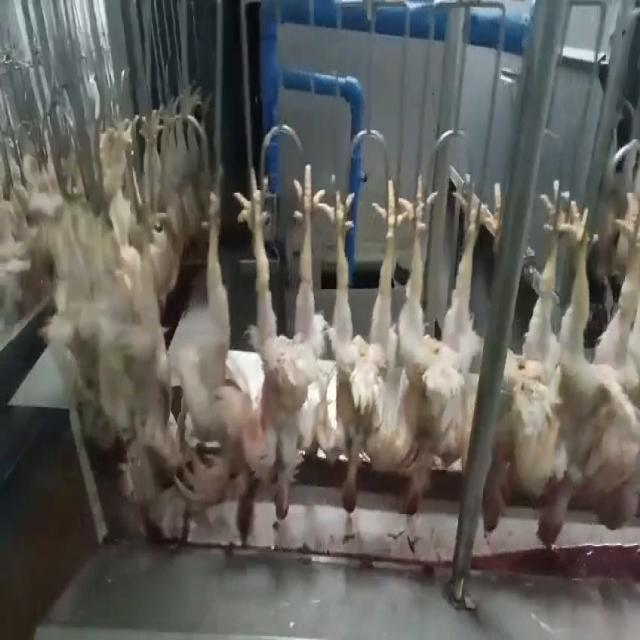chicken: (226, 158, 326, 526), (390, 178, 484, 518), (318, 172, 408, 524), (514, 178, 579, 550), (156, 185, 228, 508), (586, 180, 640, 530)
